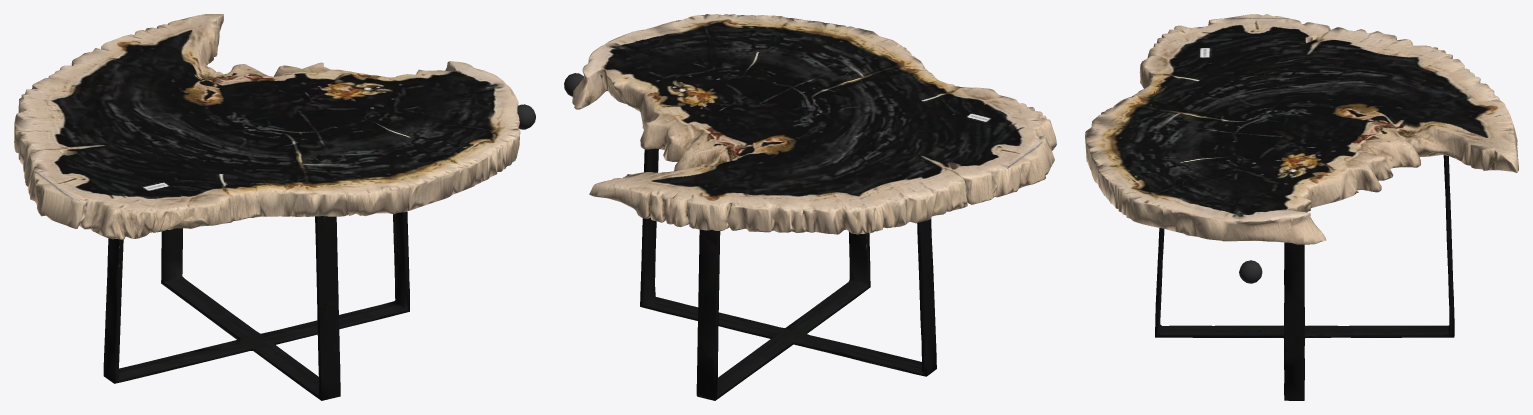
File: furn-02-rustic-iron-leg-table-meshy.glb
The picture shows the model from 3 angles, left to right: view 1: azimuth 30°, elevation 25°; view 2: azimuth 150°, elevation 25°; view 3: azimuth 270°, elevation 25°; orthographic projection. The views are drawn at different scales.
Visible parts, largest first — view 1: mesh_node; view 2: mesh_node; view 3: mesh_node.
Part boxes in pixels (x1,y1,x2,y2): mesh_node: (14, 14, 535, 400); mesh_node: (564, 14, 1056, 400); mesh_node: (1085, 14, 1518, 400).
Size of the model in its own units: 1.9 by 0.8456 by 1.55.
Materials: 1 (1 with a texture image).
